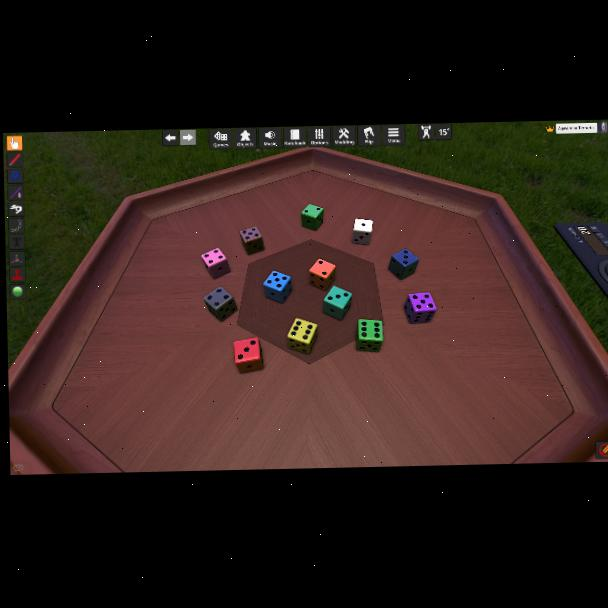d6: (233, 336, 267, 375), (286, 318, 318, 355), (204, 287, 236, 322), (262, 270, 293, 304), (323, 285, 353, 320), (405, 293, 435, 325), (201, 248, 229, 281), (388, 248, 416, 281), (308, 259, 336, 291), (355, 319, 382, 351), (239, 226, 264, 255), (301, 204, 323, 232), (352, 218, 373, 246)
